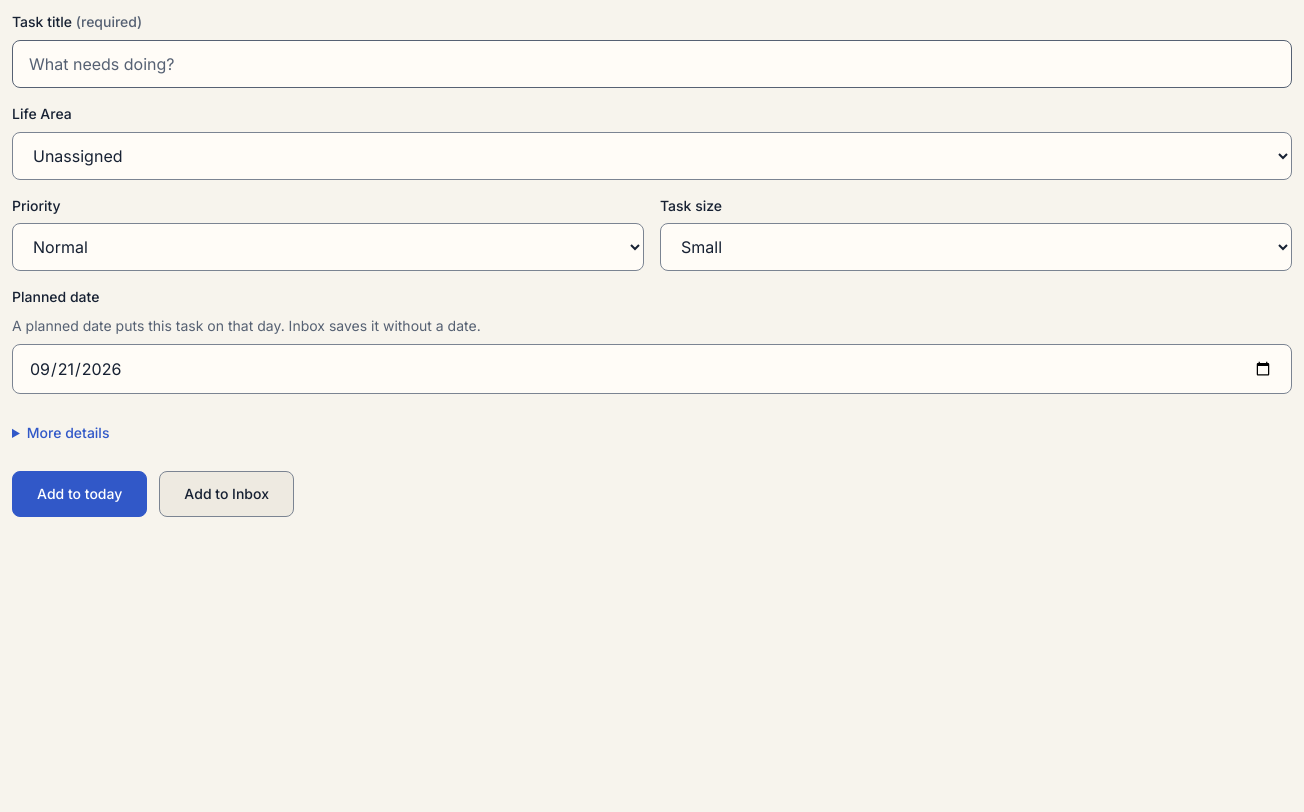
it: submitting from Today plans the ordinary task without starting Focus
Type "A normal task" into the field labelled "Task title" at (652, 64), box [12,40,1292,88]
Then press Enter
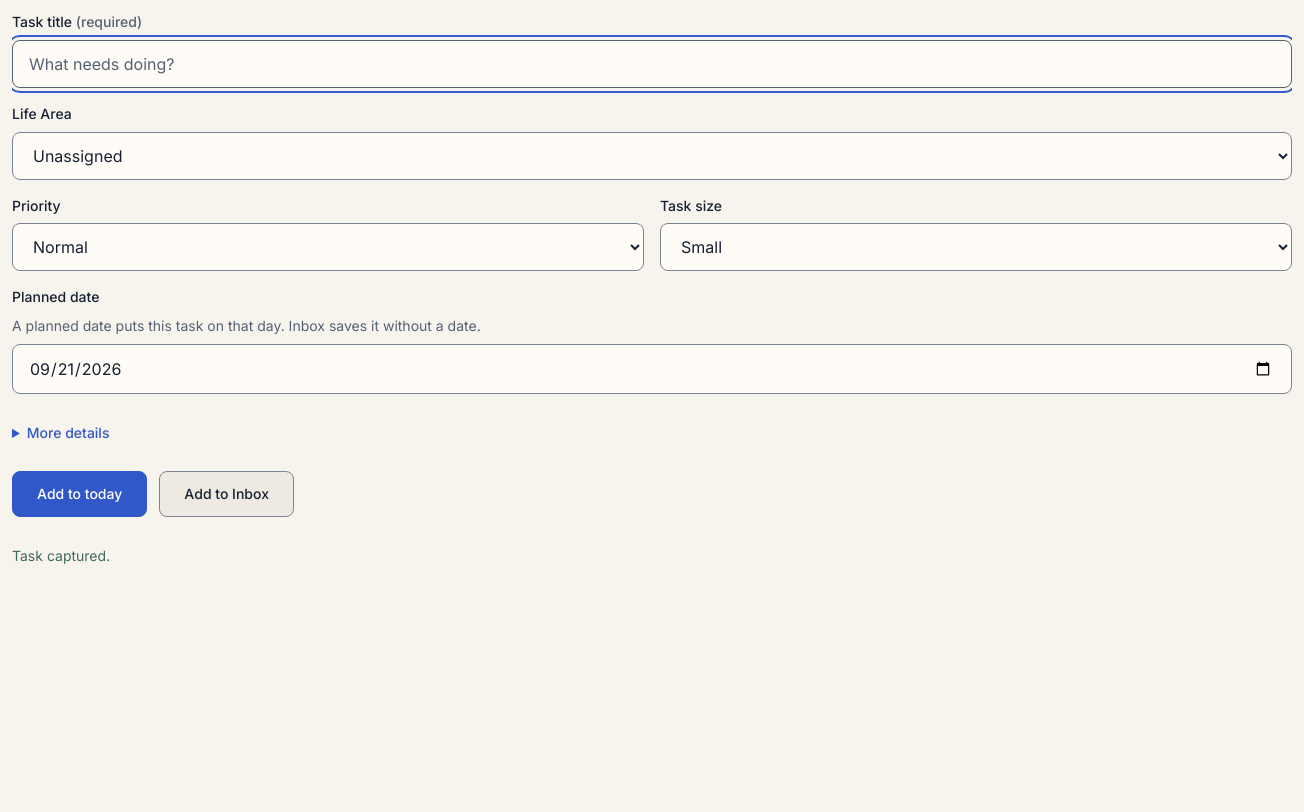
Check: the text "Task captured." is shown, box [12,547,110,564]
